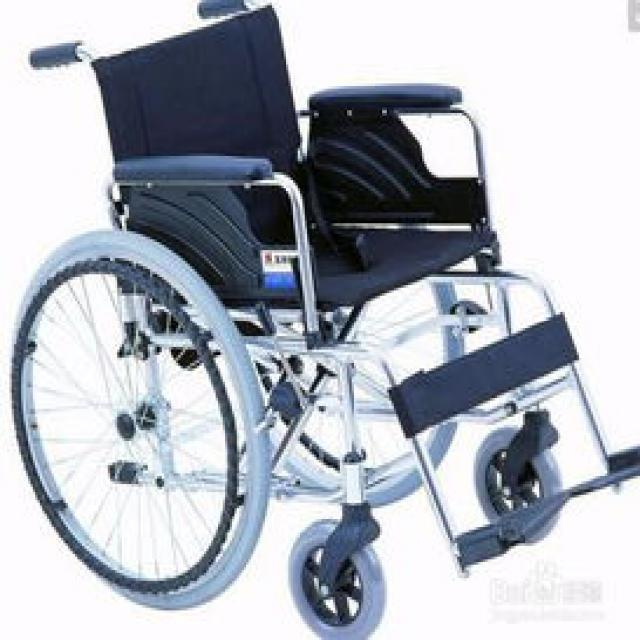wheelchair: (9, 0, 638, 638)
